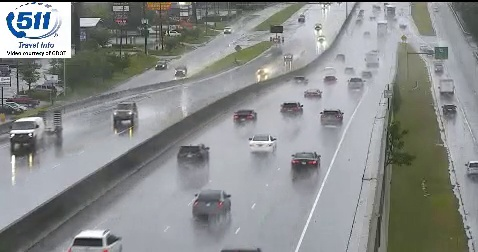car: (68, 229, 122, 252), (192, 190, 230, 215), (177, 144, 209, 164), (291, 151, 320, 171), (249, 135, 276, 153), (320, 108, 343, 125), (233, 109, 257, 124), (281, 102, 303, 117)
